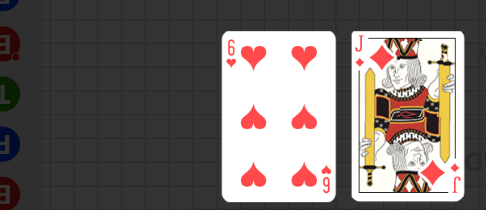6H: (226, 38, 239, 70)
JD: (449, 161, 462, 195)
